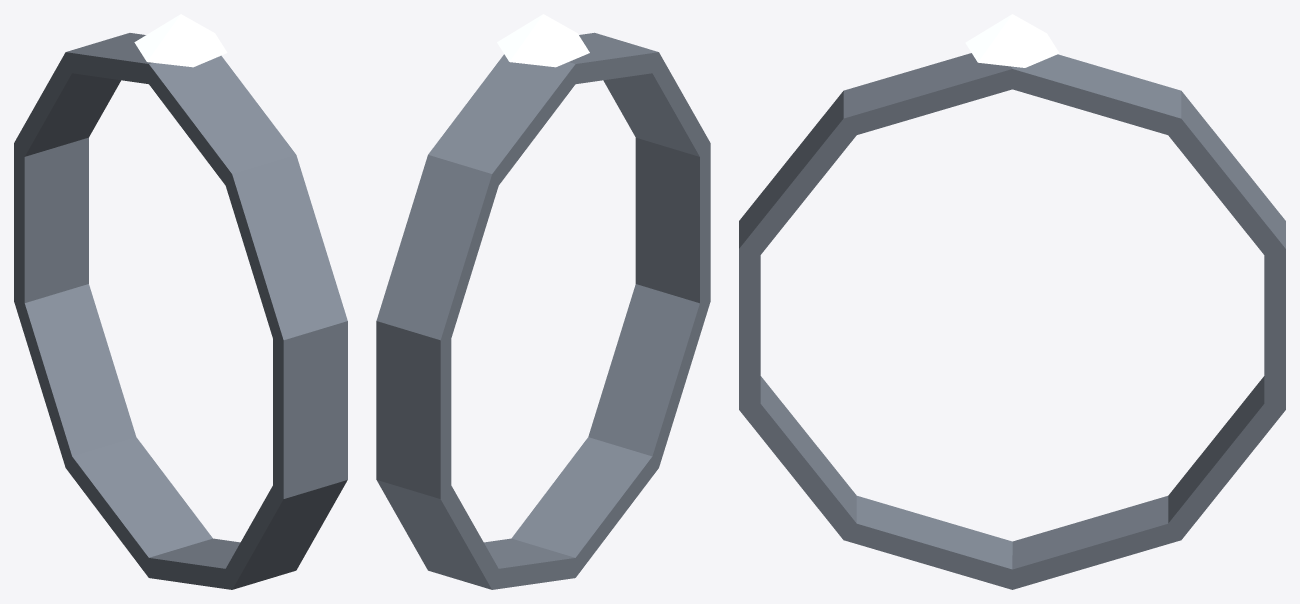
File: armor_ring_rare_orc.glb
The picture shows the model from 3 angles, left to right: view 1: azimuth 30°, elevation 25°; view 2: azimuth 150°, elevation 25°; view 3: azimuth 270°, elevation 25°; orthographic projection.
Visible parts, largest first — view 1: armor_ring_rare_orc__middle_01_r; view 2: armor_ring_rare_orc__middle_01_r; view 3: armor_ring_rare_orc__middle_01_r.
Part boxes in pixels (<box>): armor_ring_rare_orc__middle_01_r: <box>14,14,347,589</box>; armor_ring_rare_orc__middle_01_r: <box>376,14,710,589</box>; armor_ring_rare_orc__middle_01_r: <box>739,14,1285,589</box>.
Size of the model in its own units: 2.51 by 16.53 by 14.53.
